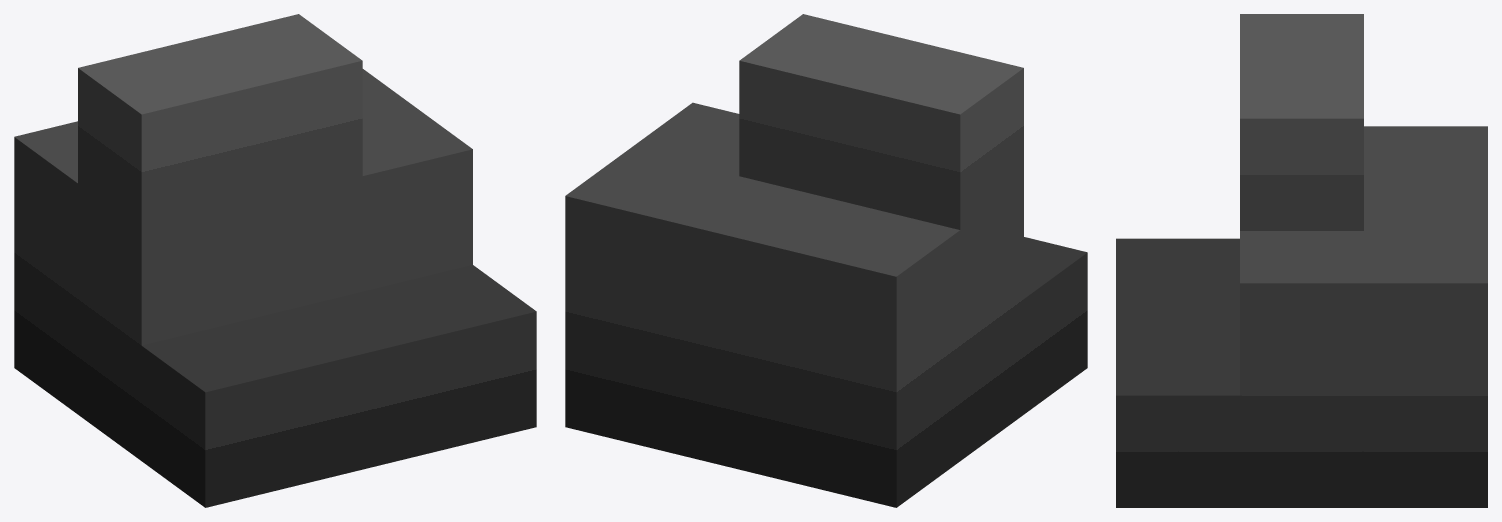
File: Stone_2_LODGroup.fbx
The picture shows the model from 3 angles, left to right: view 1: azimuth 30°, elevation 25°; view 2: azimuth 150°, elevation 25°; view 3: azimuth 270°, elevation 25°; orthographic projection. The views are drawn at different scales.
Visible parts, largest first — view 1: Stone_2_LOD0; view 2: Stone_2_LOD0; view 3: Stone_2_LOD0.
Part boxes in pixels (left/top/right/bottom): Stone_2_LOD0: left=14, top=14, right=536, bottom=507; Stone_2_LOD0: left=565, top=14, right=1087, bottom=507; Stone_2_LOD0: left=1116, top=14, right=1487, bottom=507.
Size of what is drawn, in the model's own units: 0.804 by 0.804 by 0.804.
